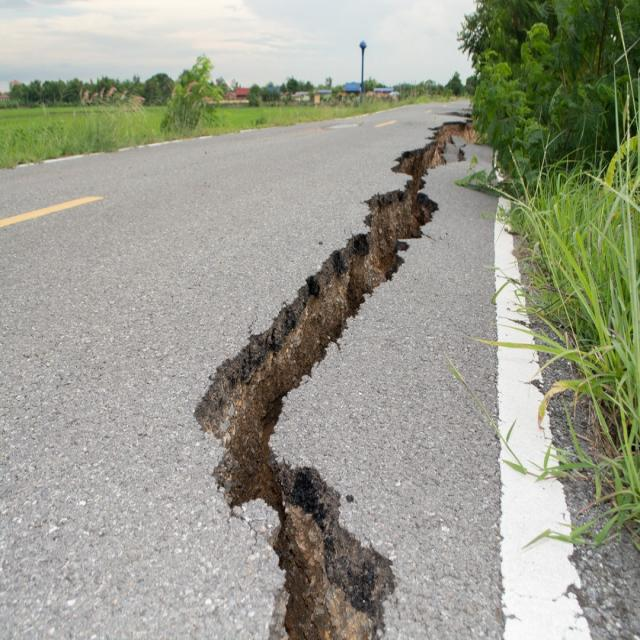Earthquake: (200, 7, 511, 640)
